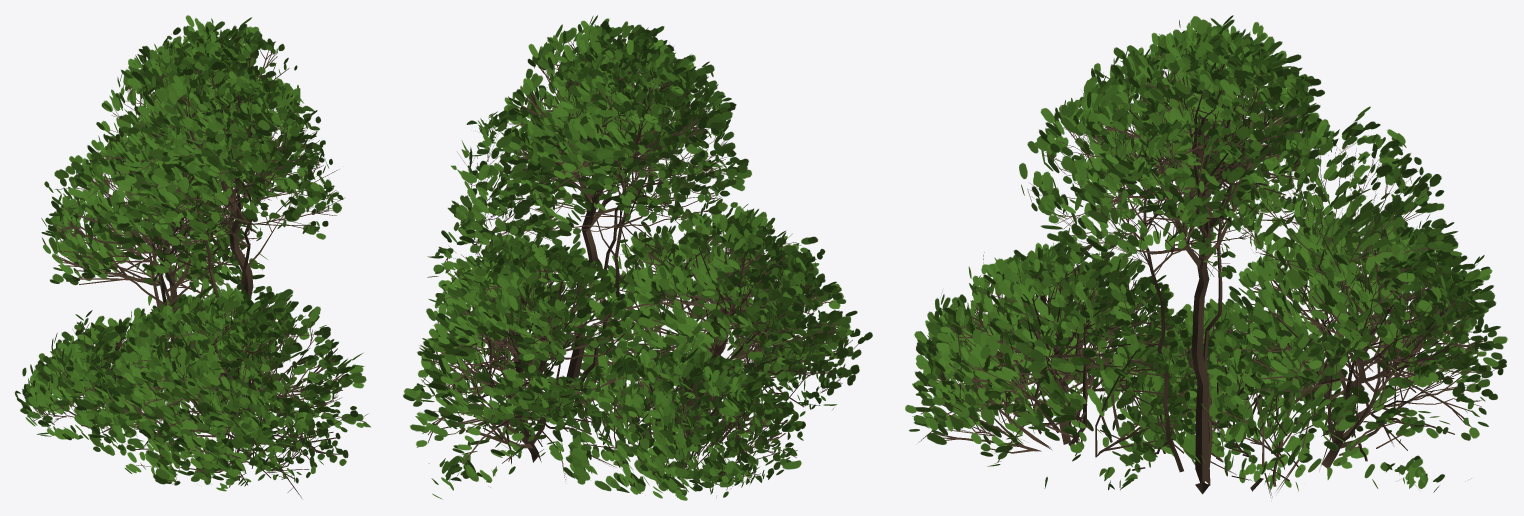
The picture shows the model from 3 angles, left to right: view 1: azimuth 30°, elevation 25°; view 2: azimuth 150°, elevation 25°; view 3: azimuth 270°, elevation 25°; orthographic projection. The views are drawn at different scales.
Visible parts, largest first — view 1: oak 01.001_trunk_Mat.001_0.269; view 2: oak 01.001_trunk_Mat.001_0.269; view 3: oak 01.001_trunk_Mat.001_0.269.
Part boxes in pixels (x1,y1,x2,y2): oak 01.001_trunk_Mat.001_0.269: (15, 15, 370, 498); oak 01.001_trunk_Mat.001_0.269: (403, 15, 872, 500); oak 01.001_trunk_Mat.001_0.269: (905, 15, 1507, 498).
Size of the model in its own units: 3.24 by 4.4 by 5.39.
2 materials, 1 textured.
